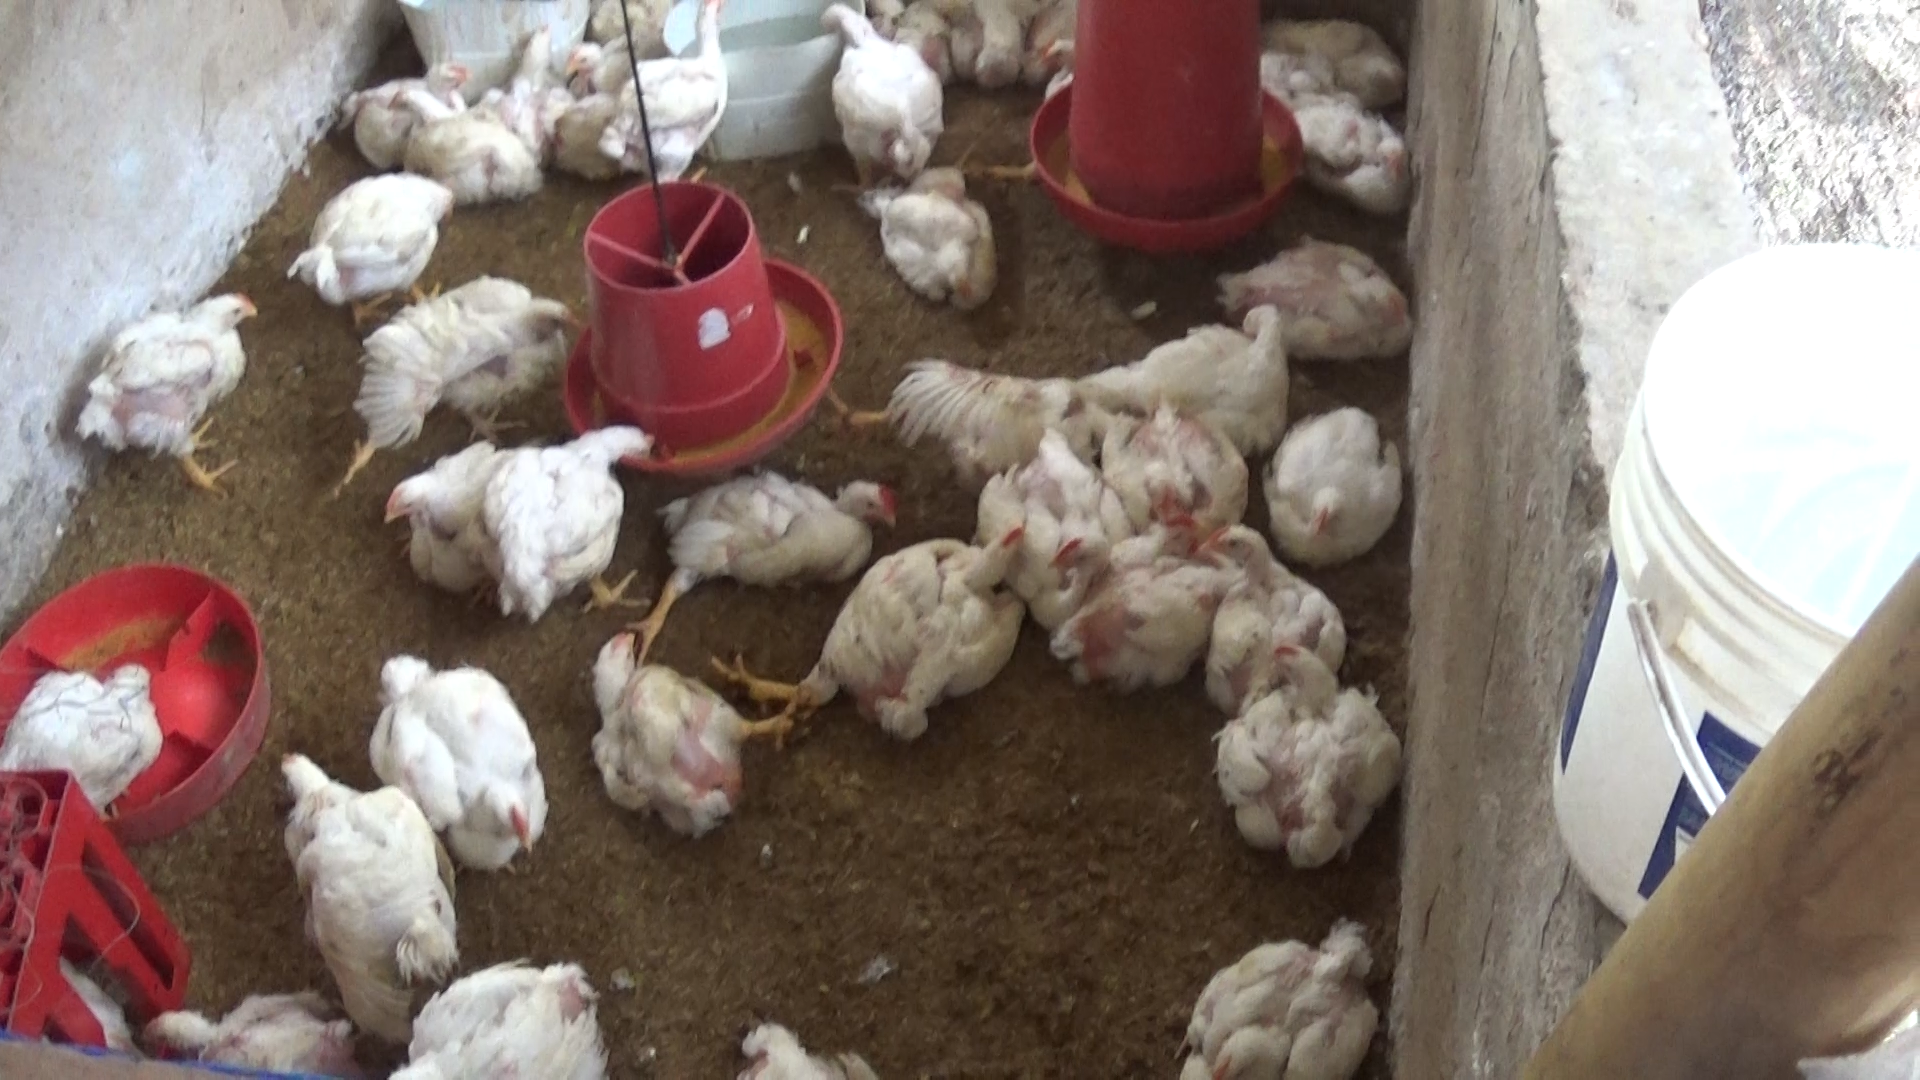Pollos: (245, 752, 477, 1009), (806, 533, 1033, 757), (363, 640, 564, 873), (47, 280, 262, 498), (1221, 640, 1395, 884), (1042, 277, 1305, 436), (1162, 907, 1391, 1080), (491, 406, 673, 624), (566, 624, 752, 833), (641, 458, 902, 592), (1182, 531, 1366, 721), (372, 280, 596, 419), (1203, 233, 1414, 378), (1058, 526, 1222, 708), (0, 658, 175, 812), (1269, 396, 1420, 574), (385, 425, 539, 599), (975, 422, 1114, 607), (868, 148, 1010, 327), (281, 173, 460, 314), (632, 0, 752, 204), (808, 1, 947, 175), (1083, 409, 1244, 549), (120, 984, 365, 1068), (331, 36, 471, 179), (460, 7, 576, 169), (1247, 8, 1402, 108), (1275, 88, 1402, 200), (537, 24, 650, 96)
